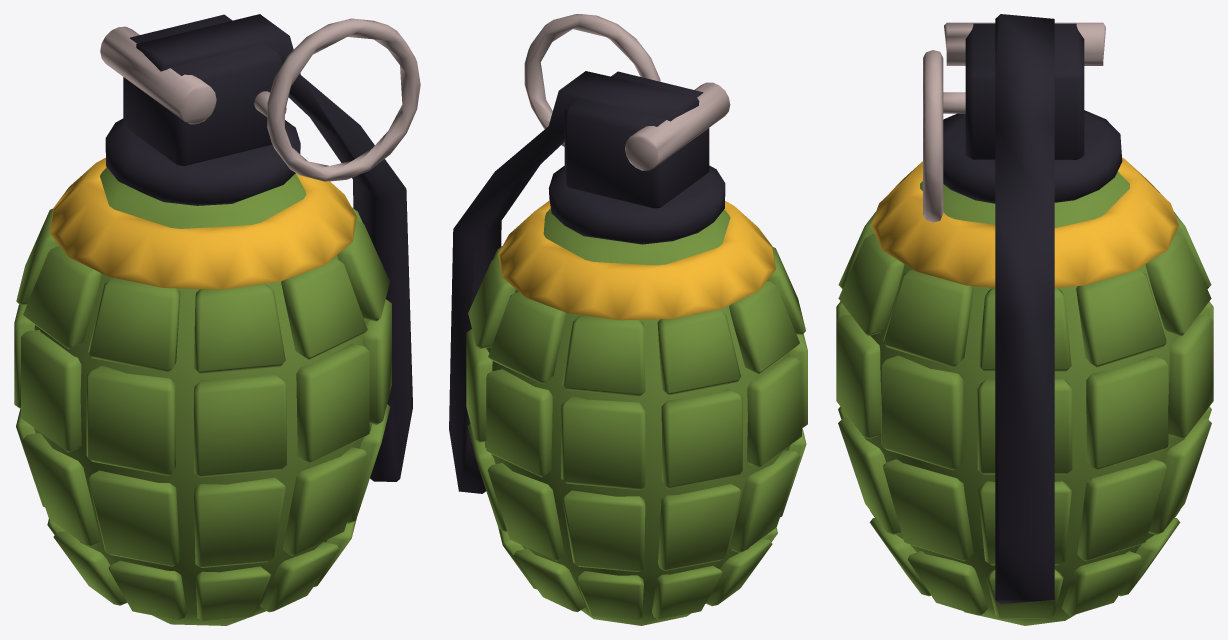
3 views of the same model, side by side, from view 1: azimuth 30°, elevation 25°; view 2: azimuth 150°, elevation 25°; view 3: azimuth 270°, elevation 25° (orthographic). The views are drawn at different scales.
Parts seen in each view (by area): view 1: body, object 2; view 2: body, object 2; view 3: body, object 2.
Part boxes in pixels (x1,y1,x2,y2): body: (14,167,391,625); object 2: (49,14,420,481); body: (466,208,807,625); object 2: (449,14,775,493); body: (836,171,1213,625); object 2: (871,14,1178,603).
Size of the model in its own units: 0.1522 by 0.2382 by 0.1395.
